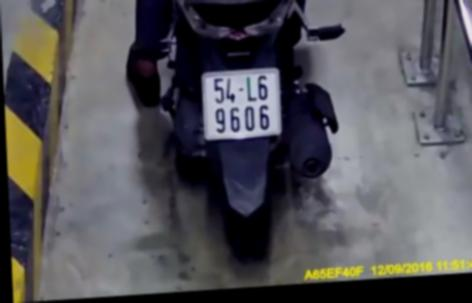License_Plate: (192, 64, 291, 148)
